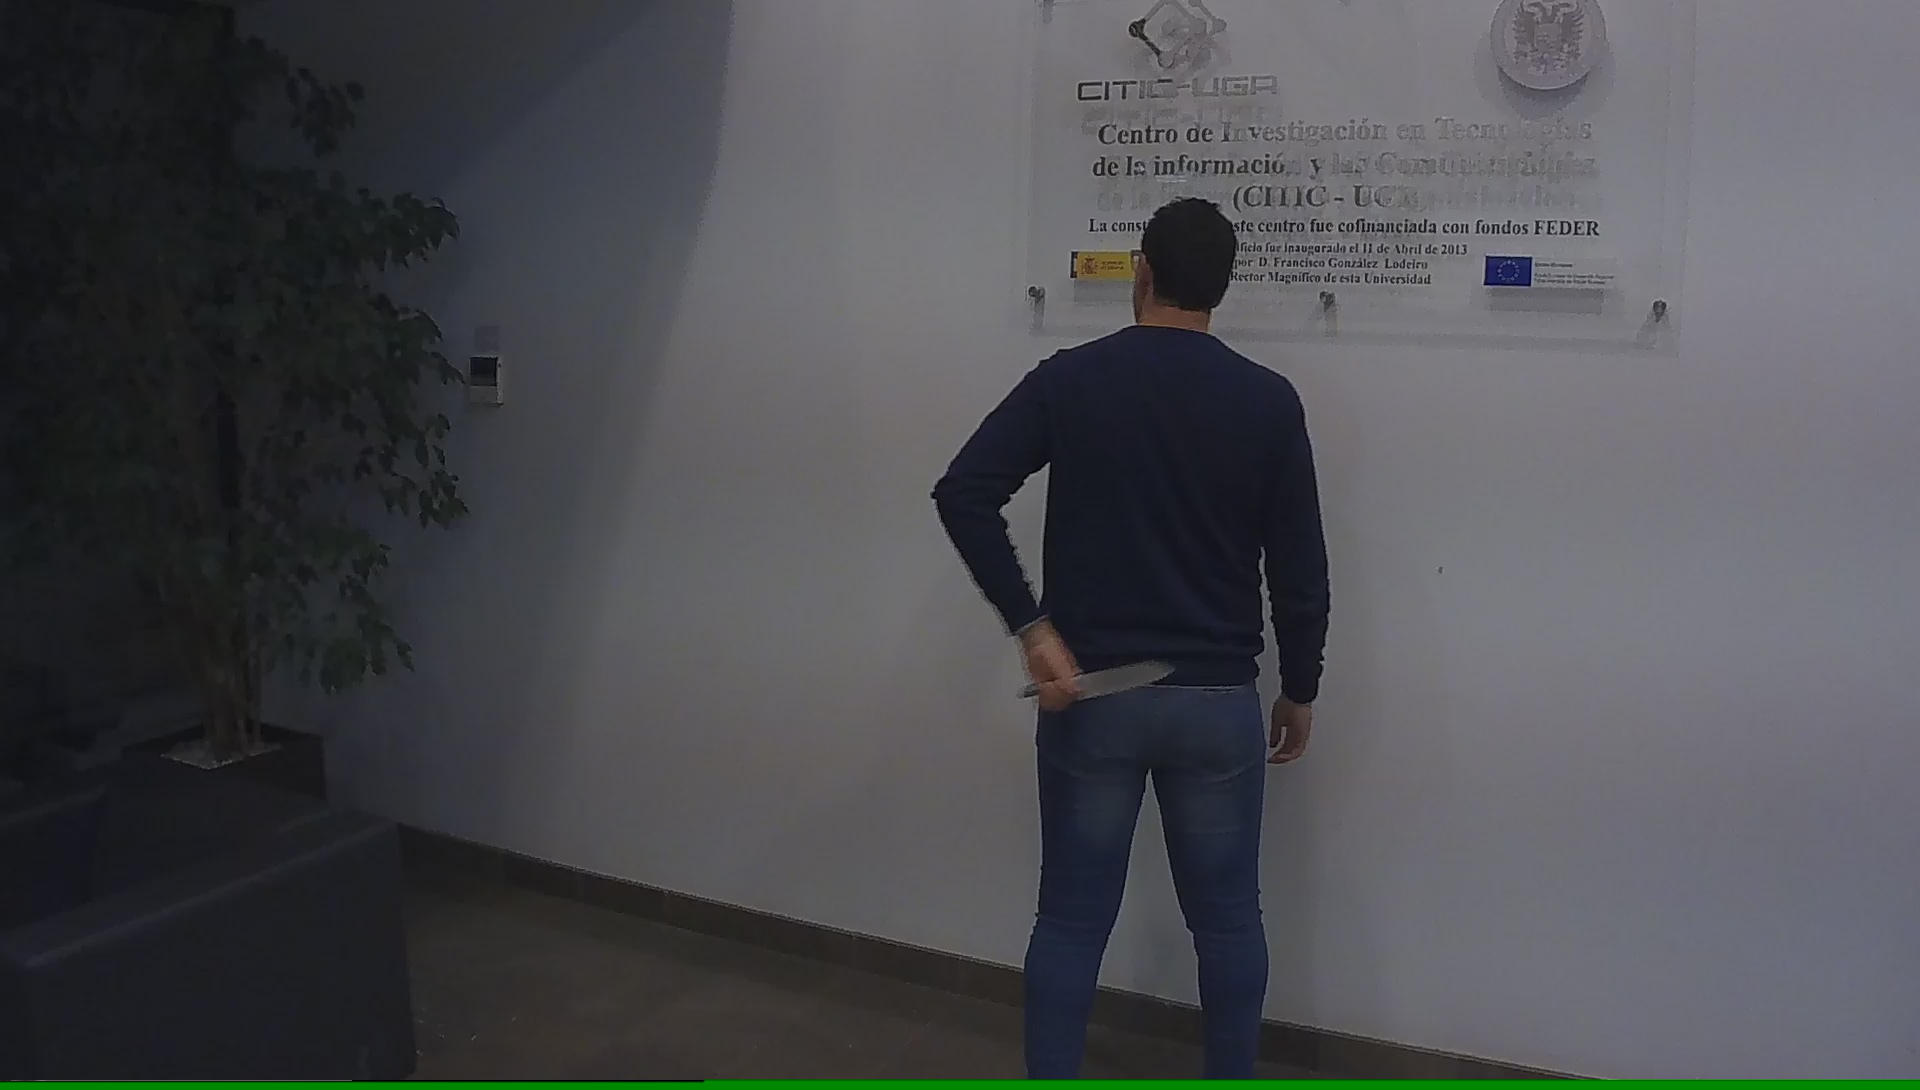knife: (1010, 648, 1182, 725)
